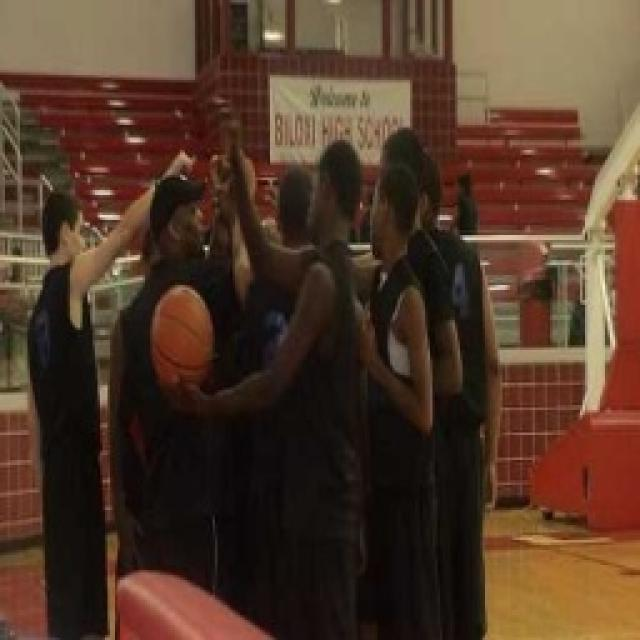rim: (143, 272, 223, 398)
